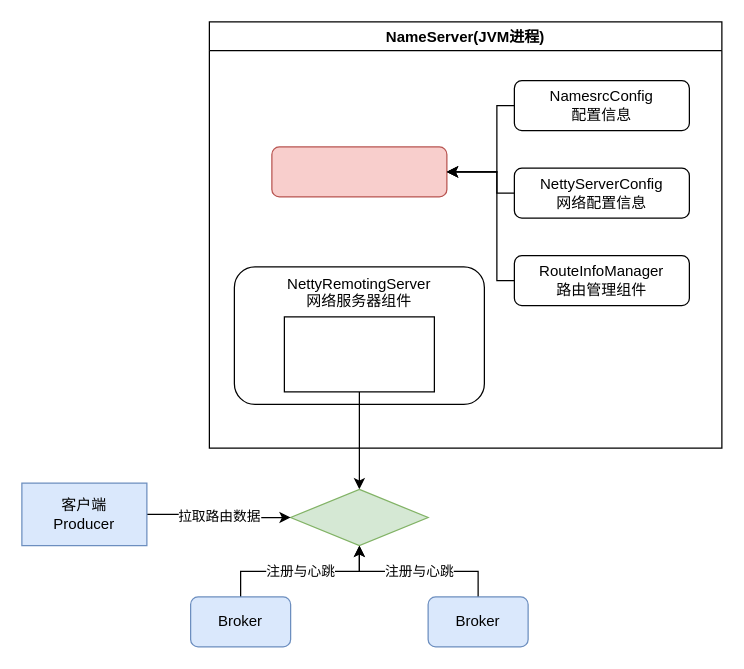
The diagram is 744 pixels wide and 669 high, and some of its shapes have lost their labels. Each missing label, with the centre of its shape:
9876端口: the point at 358,517
NamesrvController 请求处理组件: the point at 359,171
ServerBootstrap （Netty服务器）: the point at 358,354
